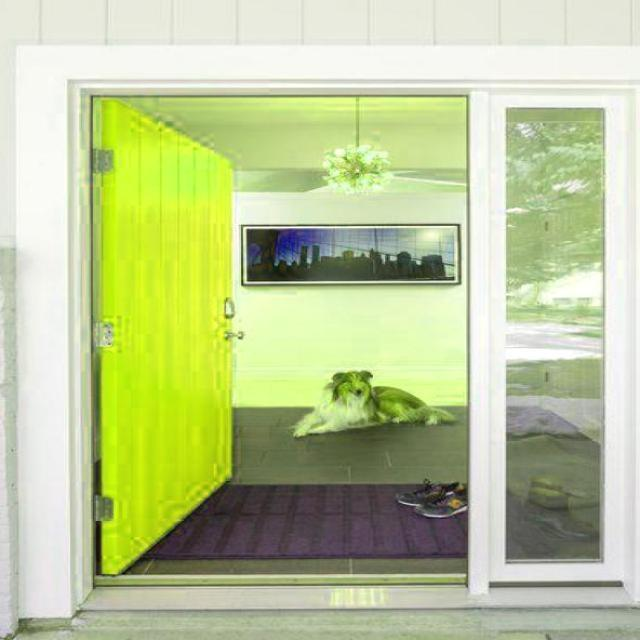door: (91, 96, 235, 576)
